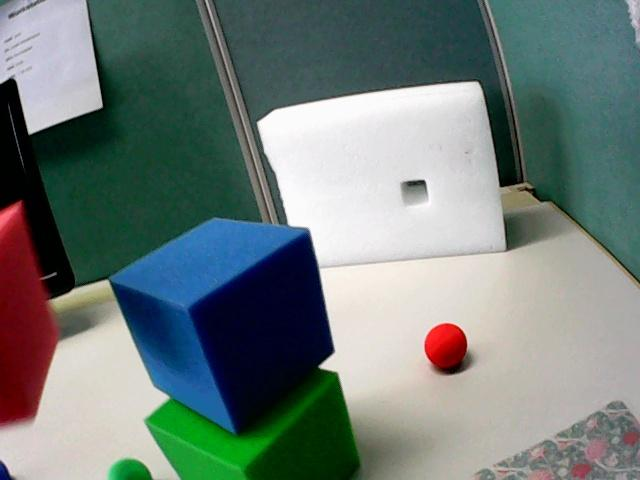blue_block: (110, 219, 332, 432), (0, 461, 11, 479)
red_block: (0, 202, 58, 423)
